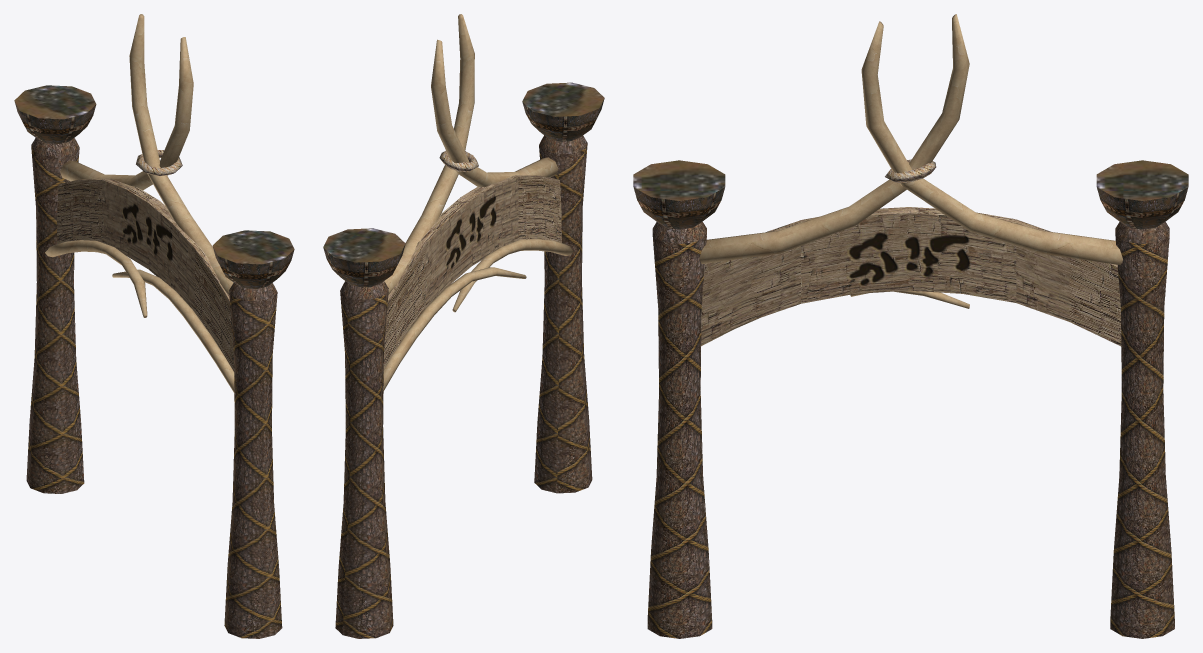
The model's file is boneskin_gatesign.FBX.
3 renders of one model, left to right at view 1: azimuth 30°, elevation 25°; view 2: azimuth 150°, elevation 25°; view 3: azimuth 270°, elevation 25°, orthographic. The views are drawn at different scales.
Visible parts, largest first — view 1: boneskin_gatesign; view 2: boneskin_gatesign; view 3: boneskin_gatesign.
Part boxes in pixels (<box>): boneskin_gatesign: <box>14,14,294,638</box>; boneskin_gatesign: <box>323,14,604,638</box>; boneskin_gatesign: <box>633,14,1188,638</box>.
Size of the model in its own units: 10.53 by 72.96 by 59.82.
Materials: 5 (5 with a texture image).
